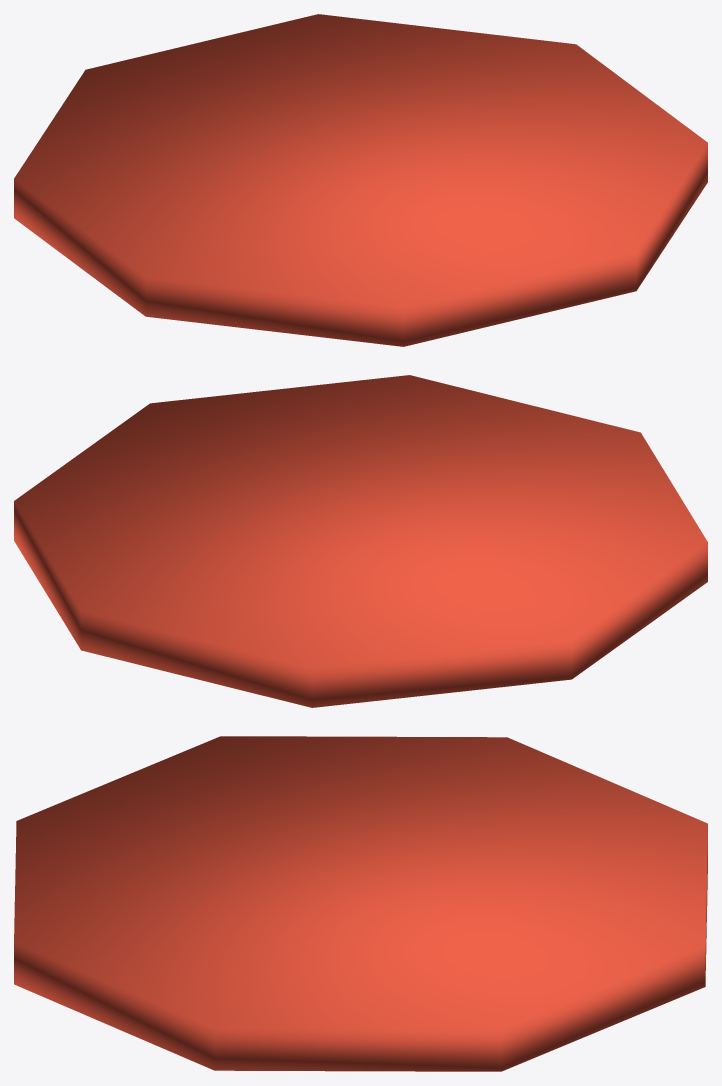
The model's file is sausage-slice-small.glb.
The picture shows the model from 3 angles, top to bottom: view 1: azimuth 30°, elevation 25°; view 2: azimuth 150°, elevation 25°; view 3: azimuth 270°, elevation 25°; orthographic projection. The views are drawn at different scales.
Visible parts, largest first — view 1: SausageSliceSmall.001; view 2: SausageSliceSmall.001; view 3: SausageSliceSmall.001.
Part boxes in pixels (x1,y1,x2,y2): SausageSliceSmall.001: [14, 14, 707, 346]; SausageSliceSmall.001: [14, 375, 707, 707]; SausageSliceSmall.001: [14, 736, 707, 1071].
Size of the model in its own units: 0.064 by 0.00431 by 0.064.
1 material, 1 textured.
